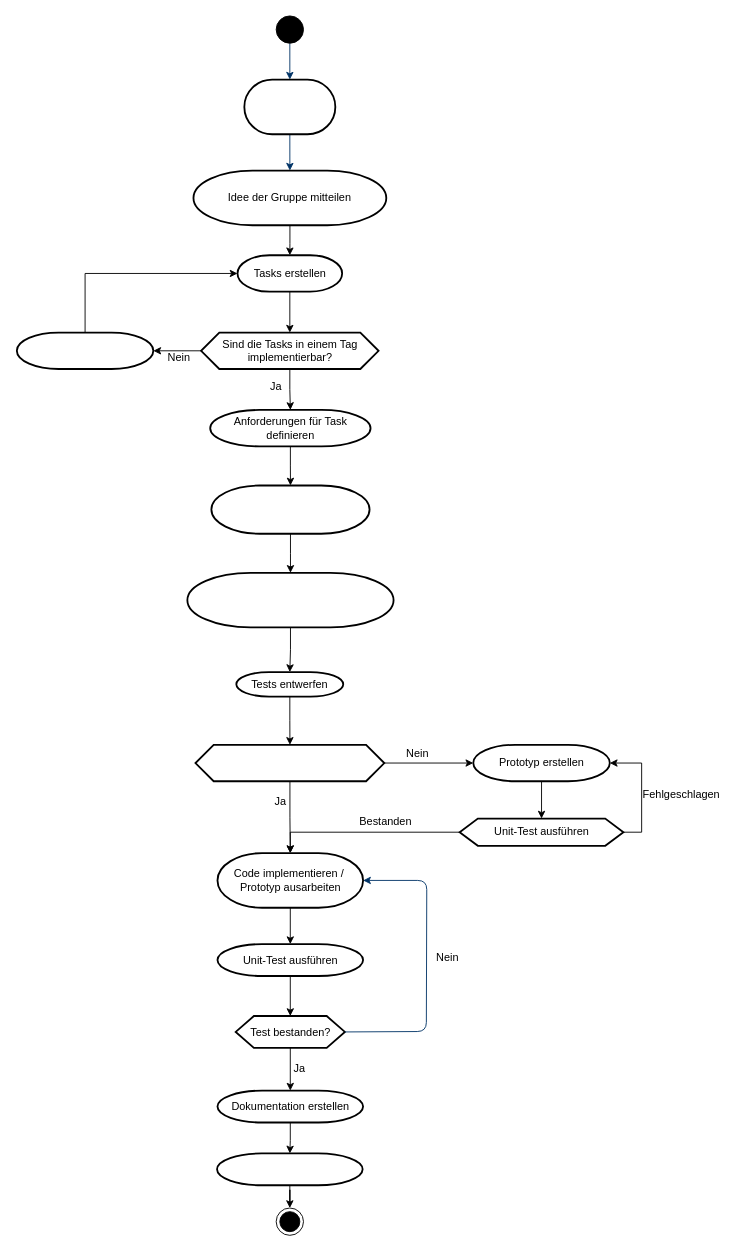
The diagram is 746 pixels wide and 1251 high, and some of its shapes have lost their labels. Here are the shapes that lost their labels. From the top down, the box of each, then its label:
(243, 78, 336, 135): Neue Idee
(15, 331, 154, 369): Task in Sub-Task aufteilen
(210, 484, 370, 534): Diagramme gegebenenfalls anpassen
(186, 571, 394, 628): Task wird spezifiziert basierend auf den Anforderungen
(194, 743, 385, 782): Können wir die Task reibungslos implementieren?
(216, 1152, 363, 1186): Codereview
